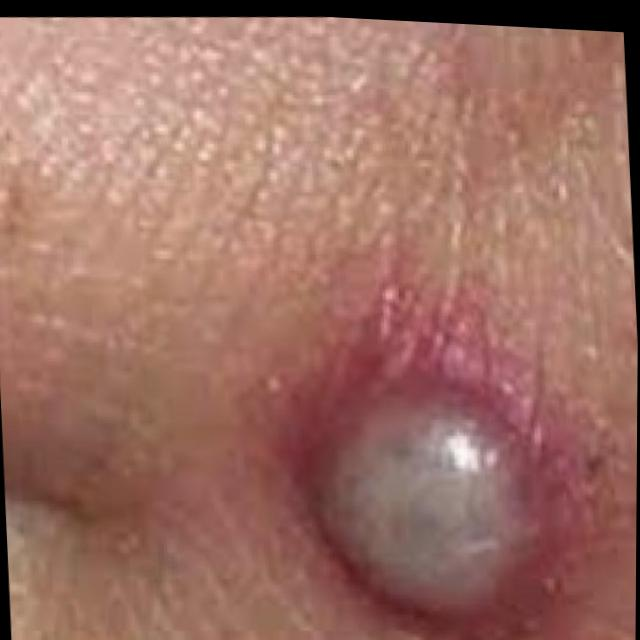Eczema: (283, 351, 540, 632)
